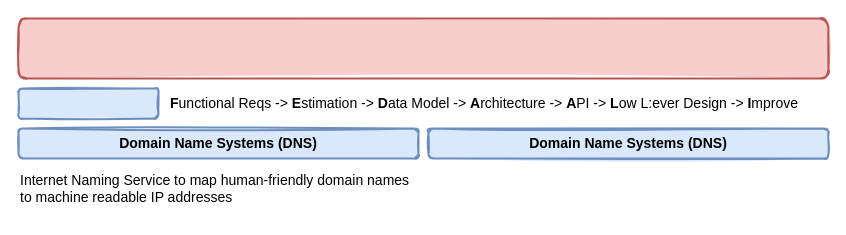
Image size: 846x235. Some labels were removed from this diagram. The centre of each missing label's shape, as x and y in pixels:
FEDAALI: the point at 88,103
System Design Condensed Notes: the point at 423,48
